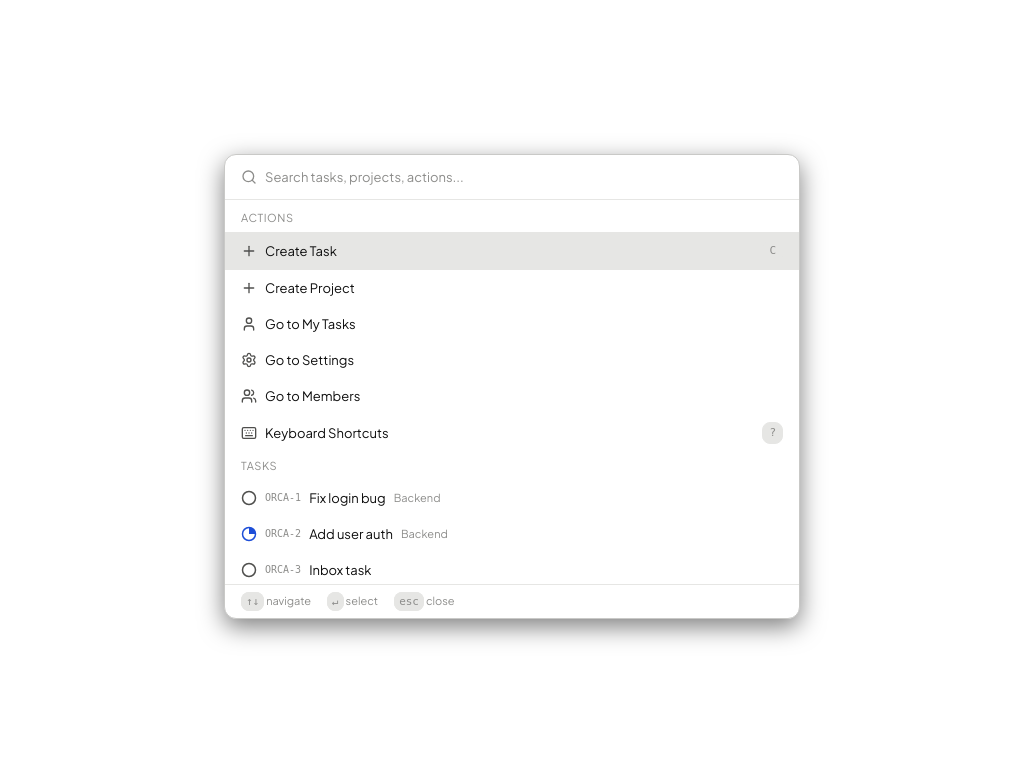
Test: CommandPalette › filters results as user types
Type "login" into the field with placeholder "Search tasks, projects, actions...". click: (524, 177)
box: top-left (265, 167), bottom-right (783, 187)
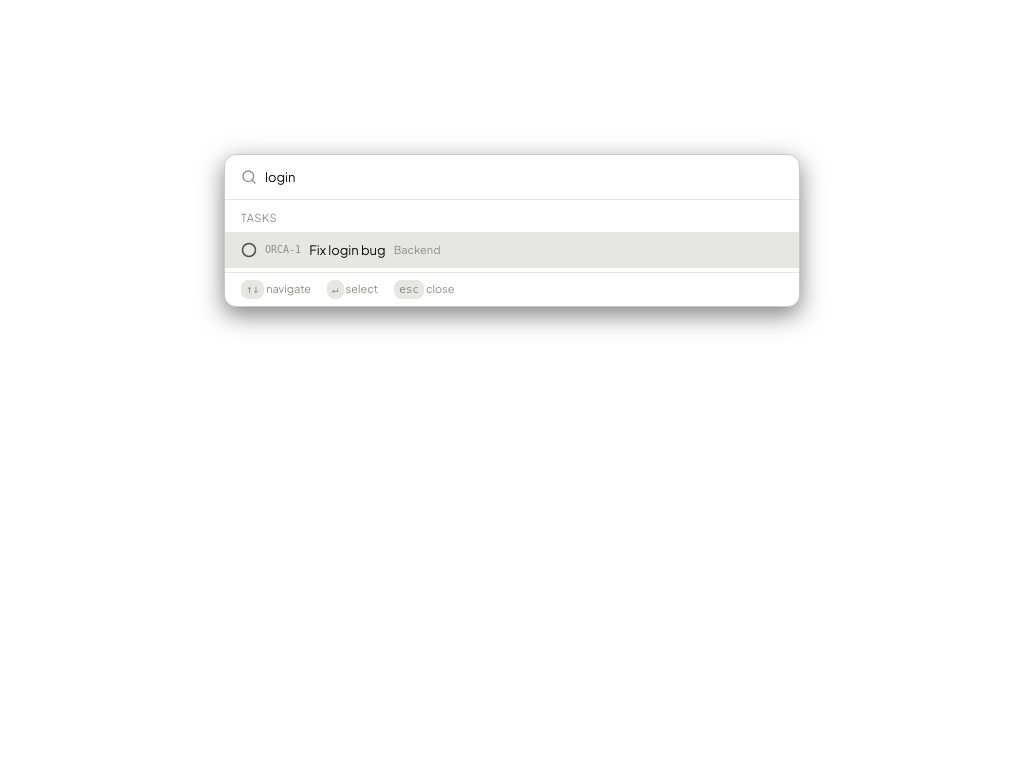
Check: the text "Fix login bug" is shown, box top-left (309, 240), bottom-right (386, 260)
Check: the button "Add user auth" is gone
